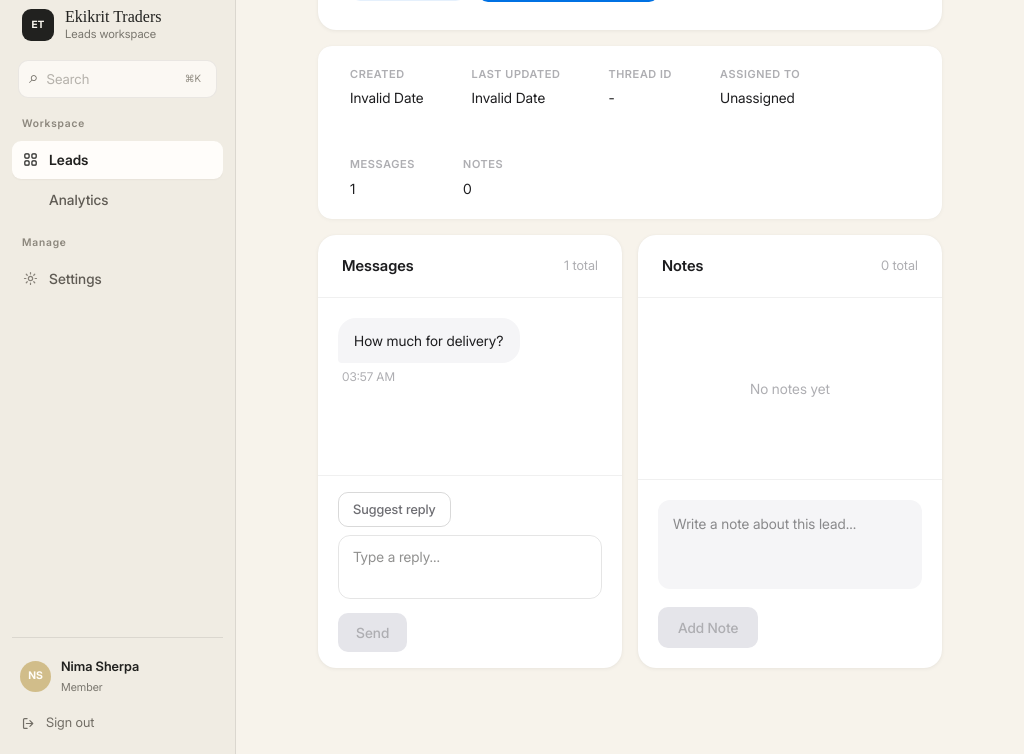
Test: LeadDetailPage — suggest reply › shows a friendly error and leaves the textarea untouched if suggestion generation fails
This screenshot has width=1024, height=754.
(page scrolled)
Expected: the text "Messages" below "Created" is shown, x1=350 y1=157 x2=415 y2=171
Click the button "Suggest reply" at x=394, y=509, box x1=338 y1=492 x2=451 y2=527
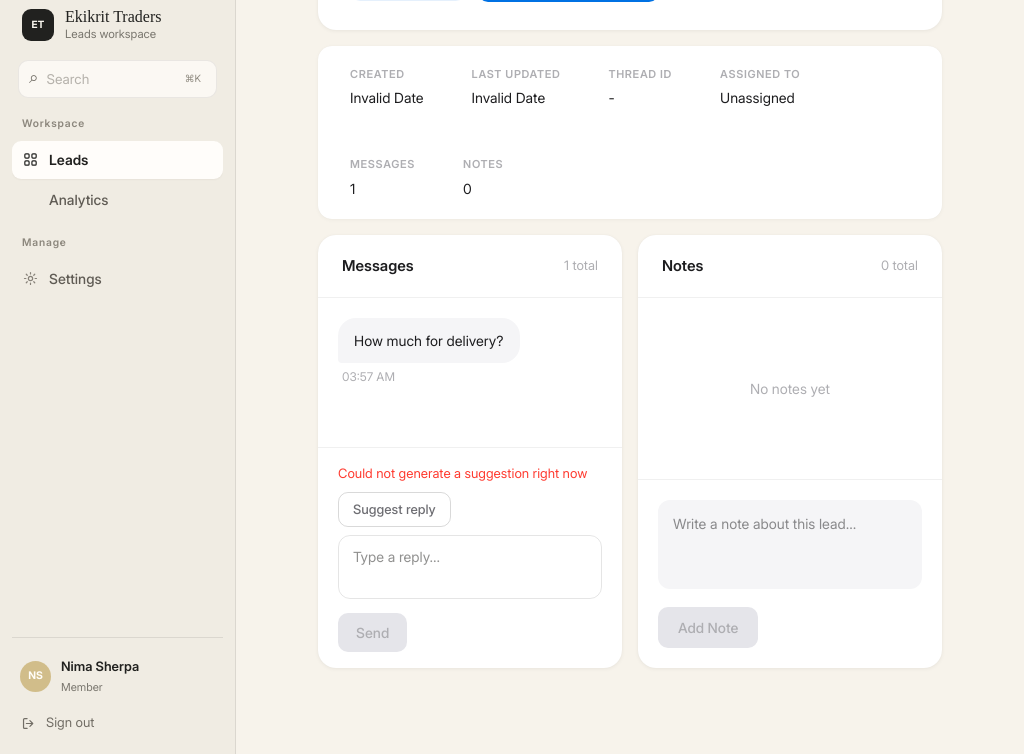
Expected: the text box with placeholder "Type a reply..." is empty, x1=338 y1=535 x2=602 y2=599
Now the text "Could not generate a suggestion right now" is shown, box x1=338 y1=464 x2=602 y2=484
